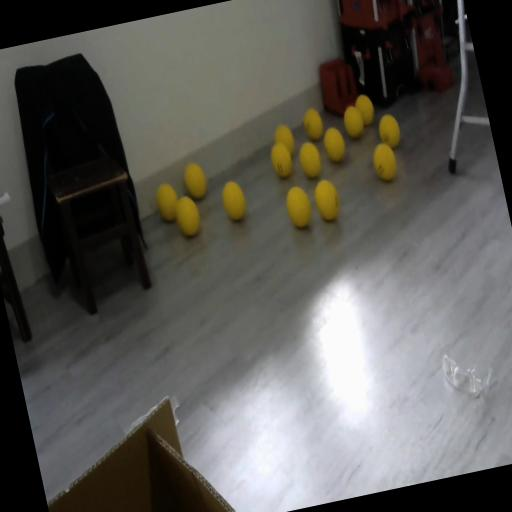FUEL: (281, 182, 315, 230), (170, 192, 204, 240), (310, 175, 343, 223), (218, 176, 250, 224), (152, 180, 182, 224), (369, 140, 400, 182), (296, 139, 324, 180), (181, 160, 209, 200), (320, 125, 348, 164), (375, 111, 403, 150), (352, 90, 378, 128), (300, 106, 326, 142), (272, 122, 296, 158)
